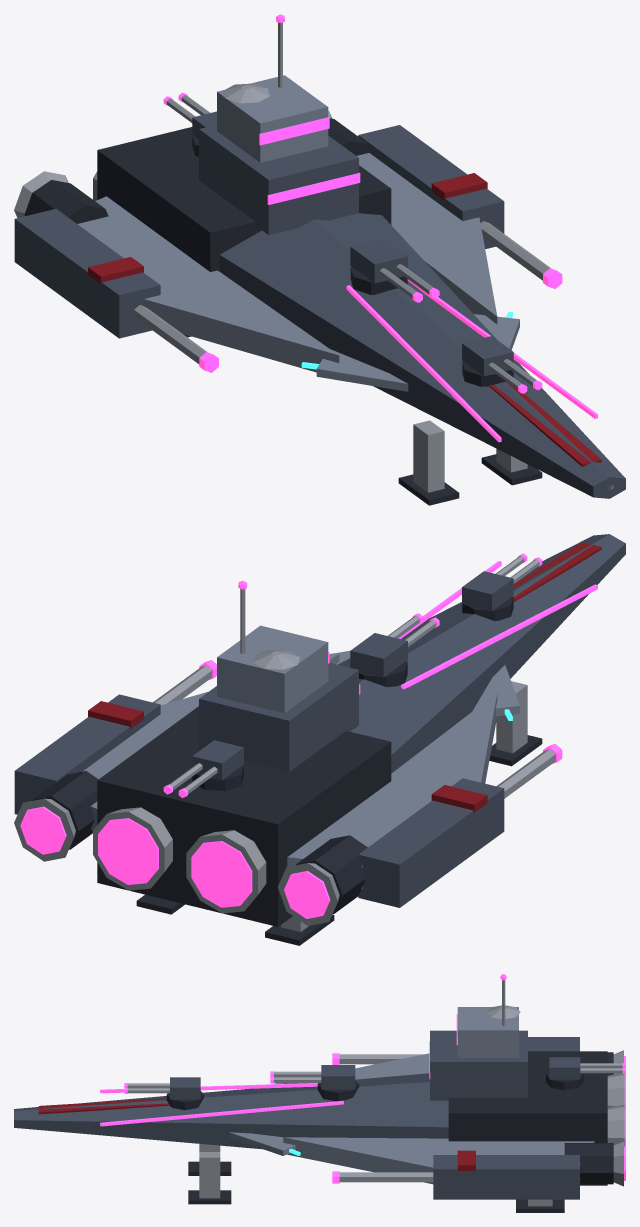
File: spaceship_warship.glb
3 renders of one model, top to bottom at view 1: azimuth 30°, elevation 25°; view 2: azimuth 150°, elevation 25°; view 3: azimuth 270°, elevation 25°, orthographic. The views are drawn at different scales.
Parts seen in each view (by area): view 1: spaceship_warship; view 2: spaceship_warship; view 3: spaceship_warship.
Part boxes in pixels (left/top/right/bottom): spaceship_warship: left=14, top=14, right=625, bottom=505; spaceship_warship: left=14, top=534, right=625, bottom=945; spaceship_warship: left=14, top=974, right=625, bottom=1212.
Bounding box in the file's own units: 5.13 × 3.92 × 10.
